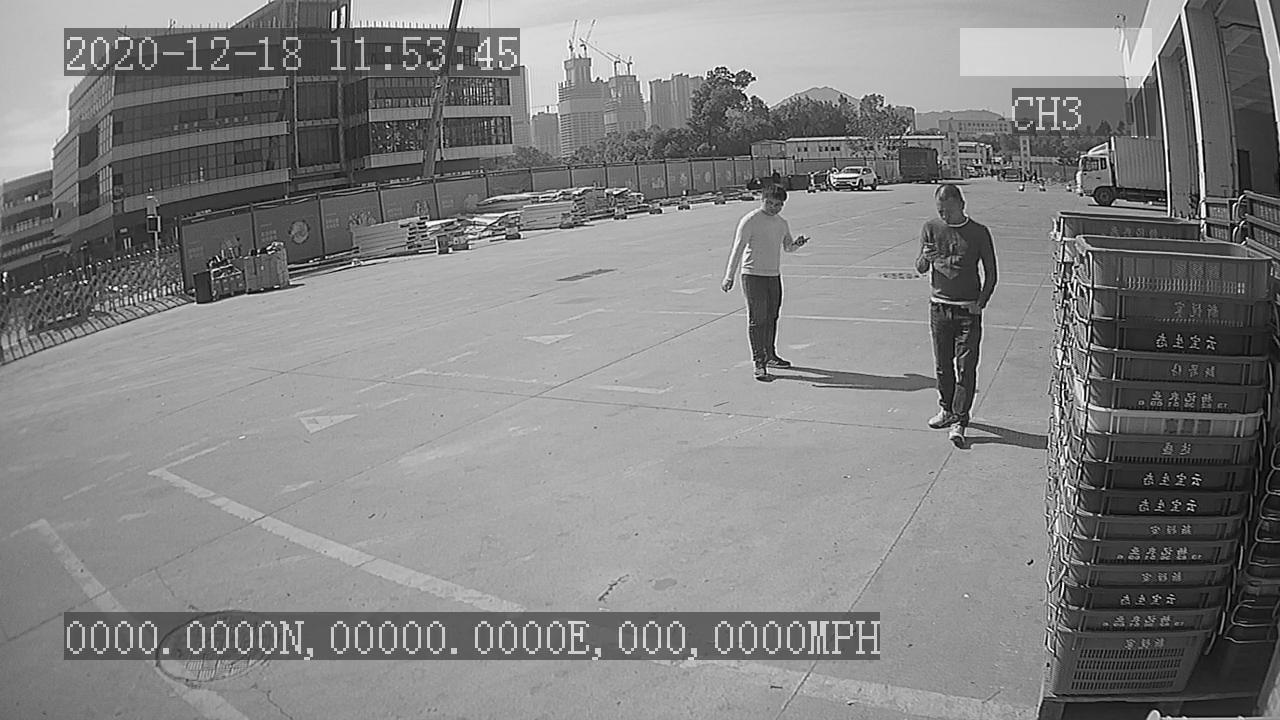person: (908, 179, 1004, 452), (715, 179, 811, 388)
